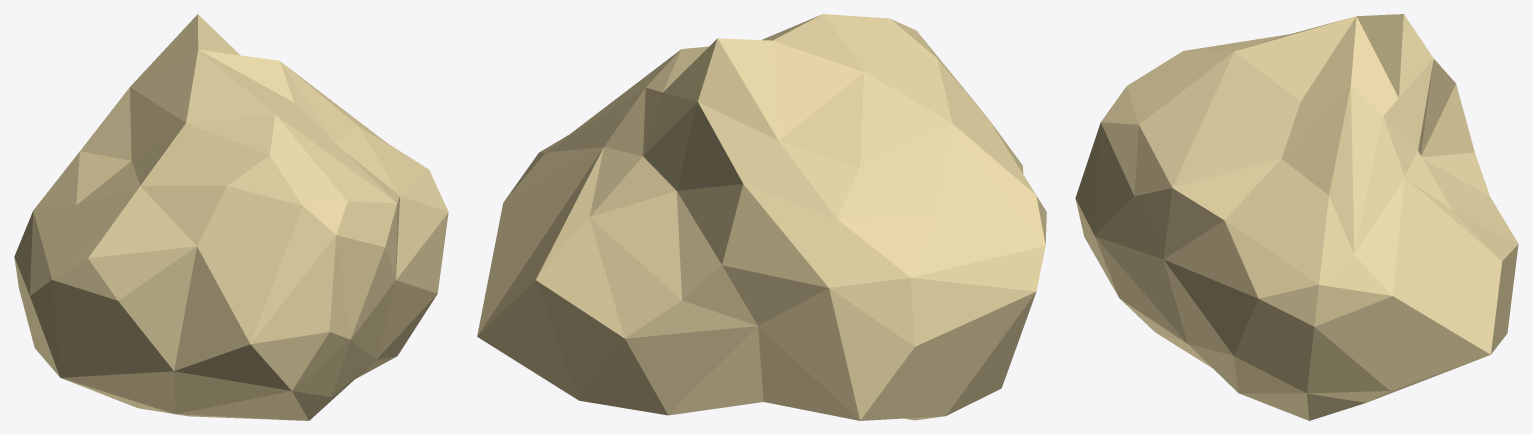
File: Rock (45).fbx
The picture shows the model from 3 angles, left to right: view 1: azimuth 30°, elevation 25°; view 2: azimuth 150°, elevation 25°; view 3: azimuth 270°, elevation 25°; orthographic projection. The views are drawn at different scales.
Visible parts, largest first — view 1: Asteroid44; view 2: Asteroid44; view 3: Asteroid44.
Part boxes in pixels (x1=…): Asteroid44: x1=14, y1=14, x2=448, y2=420; Asteroid44: x1=477, y1=14, x2=1046, y2=420; Asteroid44: x1=1075, y1=14, x2=1518, y2=420.
Bounding box in the file's own units: 145 × 119 × 131.
